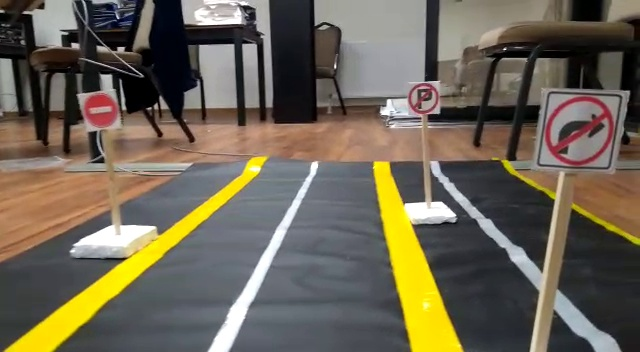girisi_olmayan_yol: (78, 93, 123, 129)
park_yapilmaz: (408, 82, 441, 114)
saga_donulmez: (544, 90, 615, 167)
